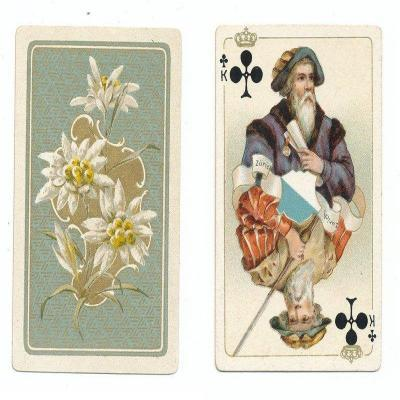graphics: (11, 26, 183, 377), (214, 24, 384, 374)
